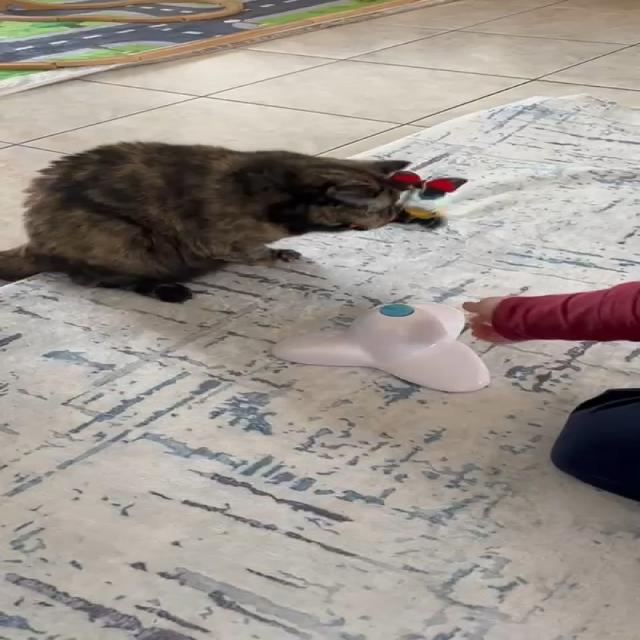authorized: (0, 140, 419, 304)
